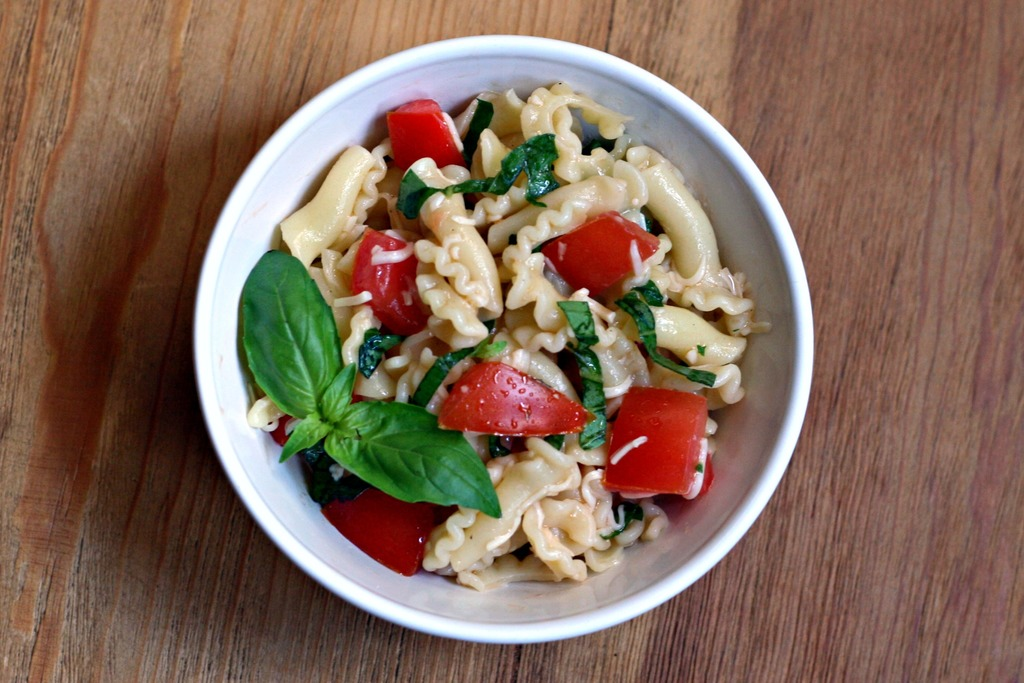Tomato: (434, 363, 601, 436), (602, 384, 709, 489), (320, 483, 431, 579), (540, 212, 659, 292), (353, 226, 421, 336), (391, 99, 465, 169)
